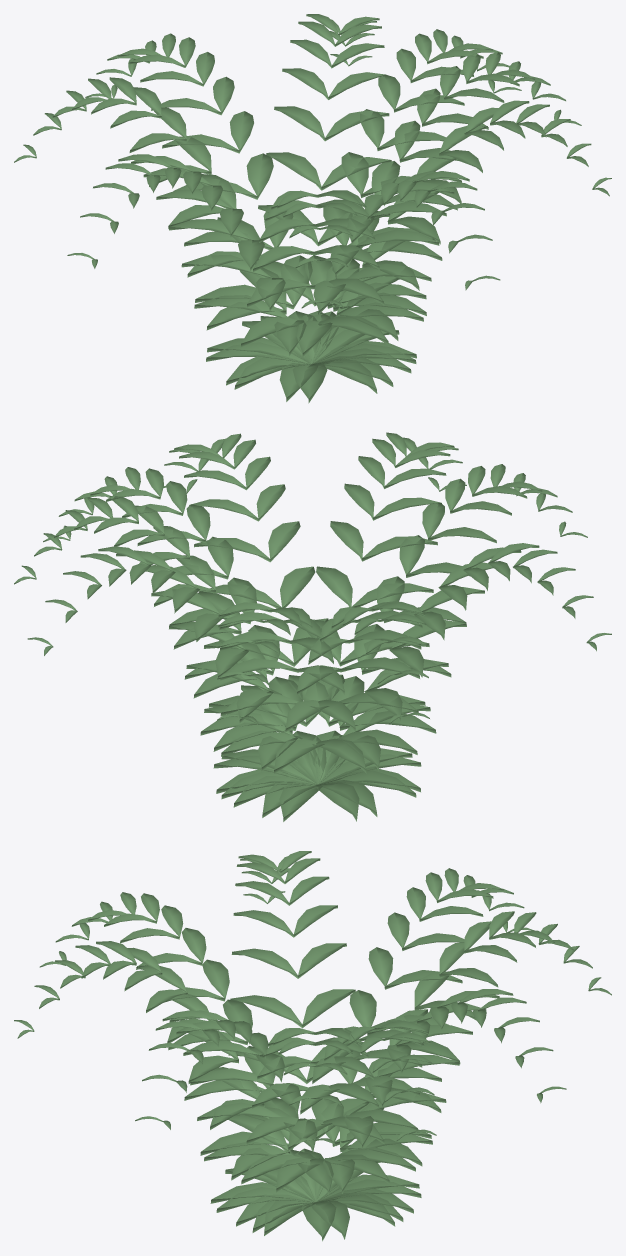
Rendered from fern.glb.
3 views of the same model, one above another, from view 1: azimuth 30°, elevation 25°; view 2: azimuth 150°, elevation 25°; view 3: azimuth 270°, elevation 25° (orthographic).
Visible parts, largest first — view 1: GEO-Fern pinnate curved fronds; view 2: GEO-Fern pinnate curved fronds; view 3: GEO-Fern pinnate curved fronds.
Boxes of the visible parts, left/top/right/bottom form: GEO-Fern pinnate curved fronds: left=14, top=14, right=611, bottom=403; GEO-Fern pinnate curved fronds: left=14, top=432, right=611, bottom=821; GEO-Fern pinnate curved fronds: left=14, top=851, right=611, bottom=1241.
Bounding box in the file's own units: 1.27 × 0.6025 × 1.26.
